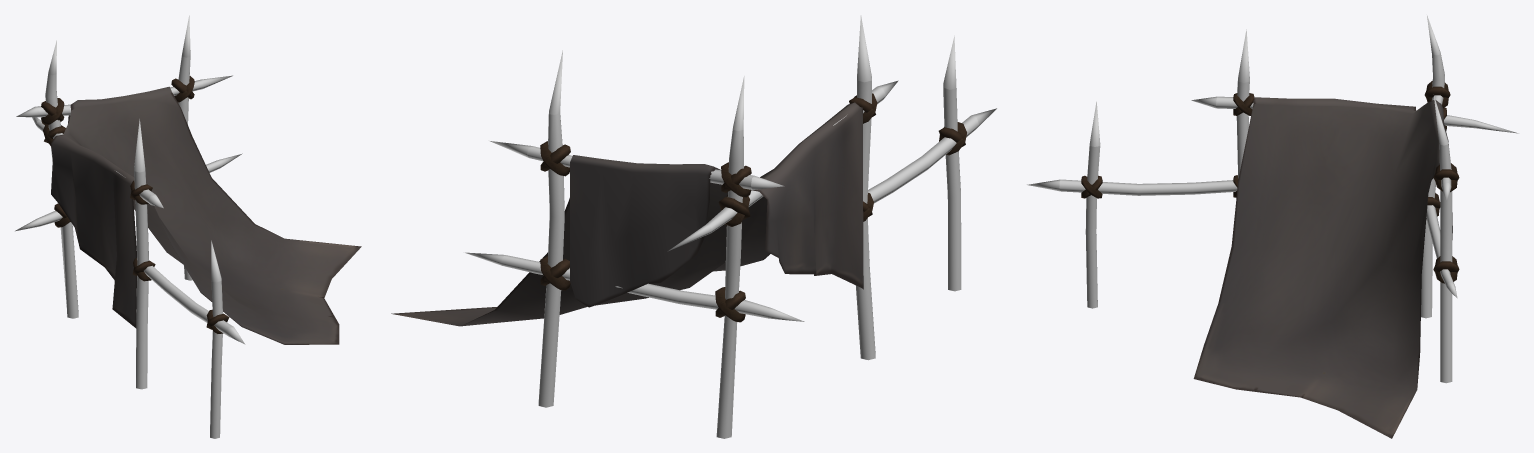
File: lower_city_cloth_lattice_01.fbx
3 renders of one model, left to right at view 1: azimuth 30°, elevation 25°; view 2: azimuth 150°, elevation 25°; view 3: azimuth 270°, elevation 25°, orthographic. The views are drawn at different scales.
Visible parts, largest first — view 1: lower_city_cloth_lattice_01; view 2: lower_city_cloth_lattice_01; view 3: lower_city_cloth_lattice_01.
Part boxes in pixels (bbox=[...]): lower_city_cloth_lattice_01: bbox=[15, 15, 361, 438]; lower_city_cloth_lattice_01: bbox=[391, 15, 996, 438]; lower_city_cloth_lattice_01: bbox=[1027, 15, 1518, 438].
Size of the model in its own units: 2.15 by 1.73 by 2.64.
